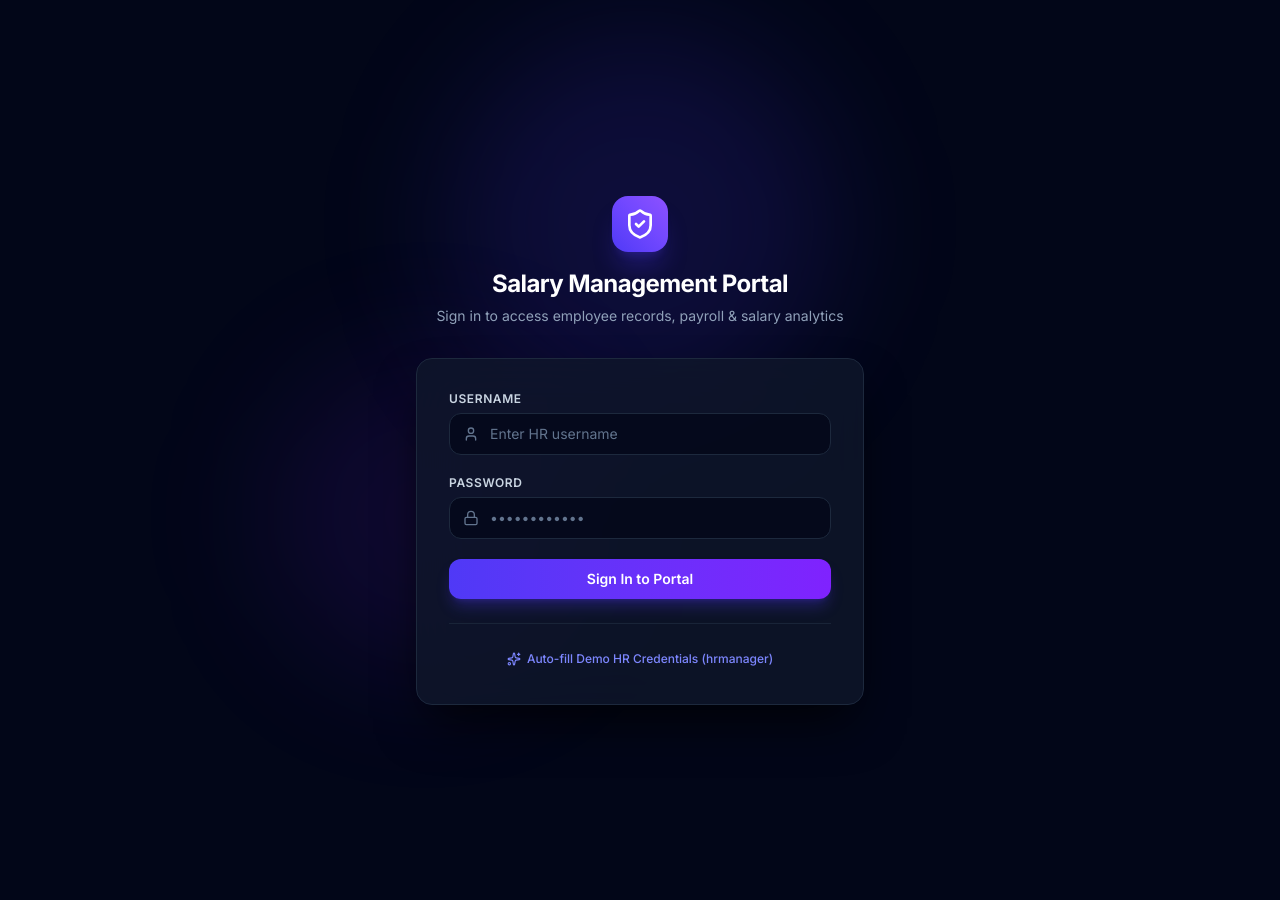
LoginPage › shows unauthorized modal when non-HR role user attempts to log in
Type "regular_employee" into the field with placeholder "Enter HR username".
click(640, 434); type("regular_employee")  # box [449,412,831,454]
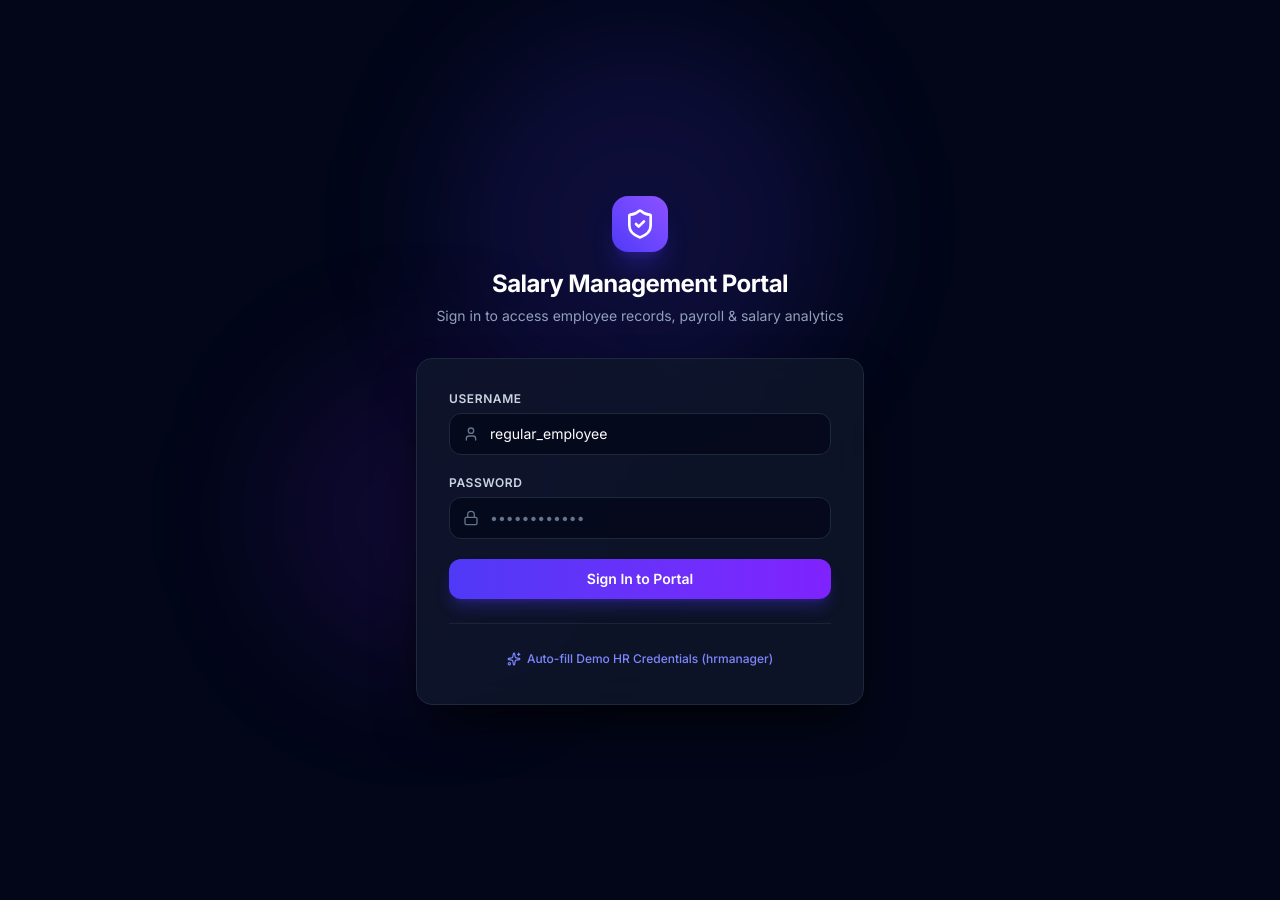
Type "mypassword" into the password field with placeholder "••••••••••••".
click(640, 518); type("mypassword")  # box [449,496,831,538]
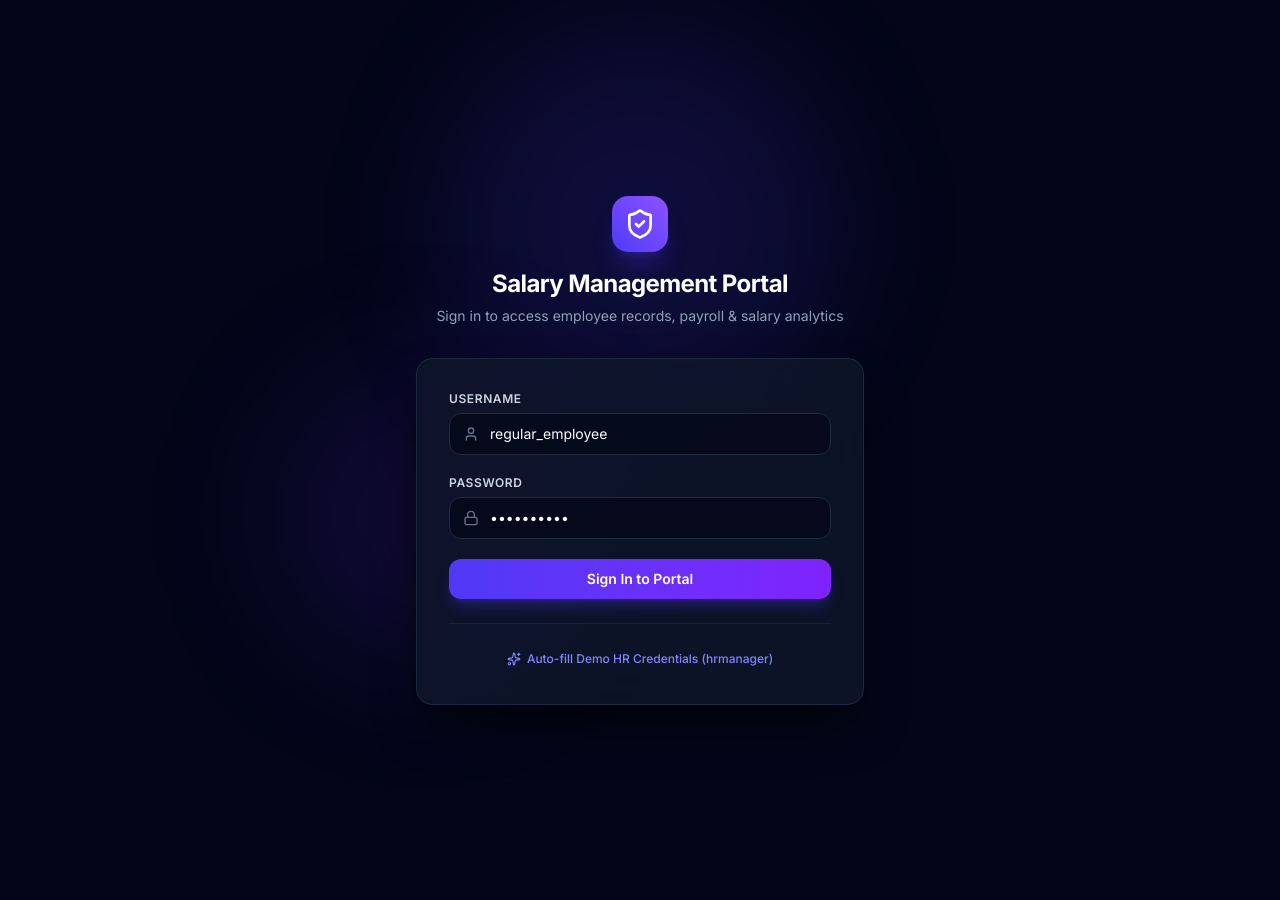
Click the button "Sign In to Portal".
click(640, 578)  # box [449,558,831,598]
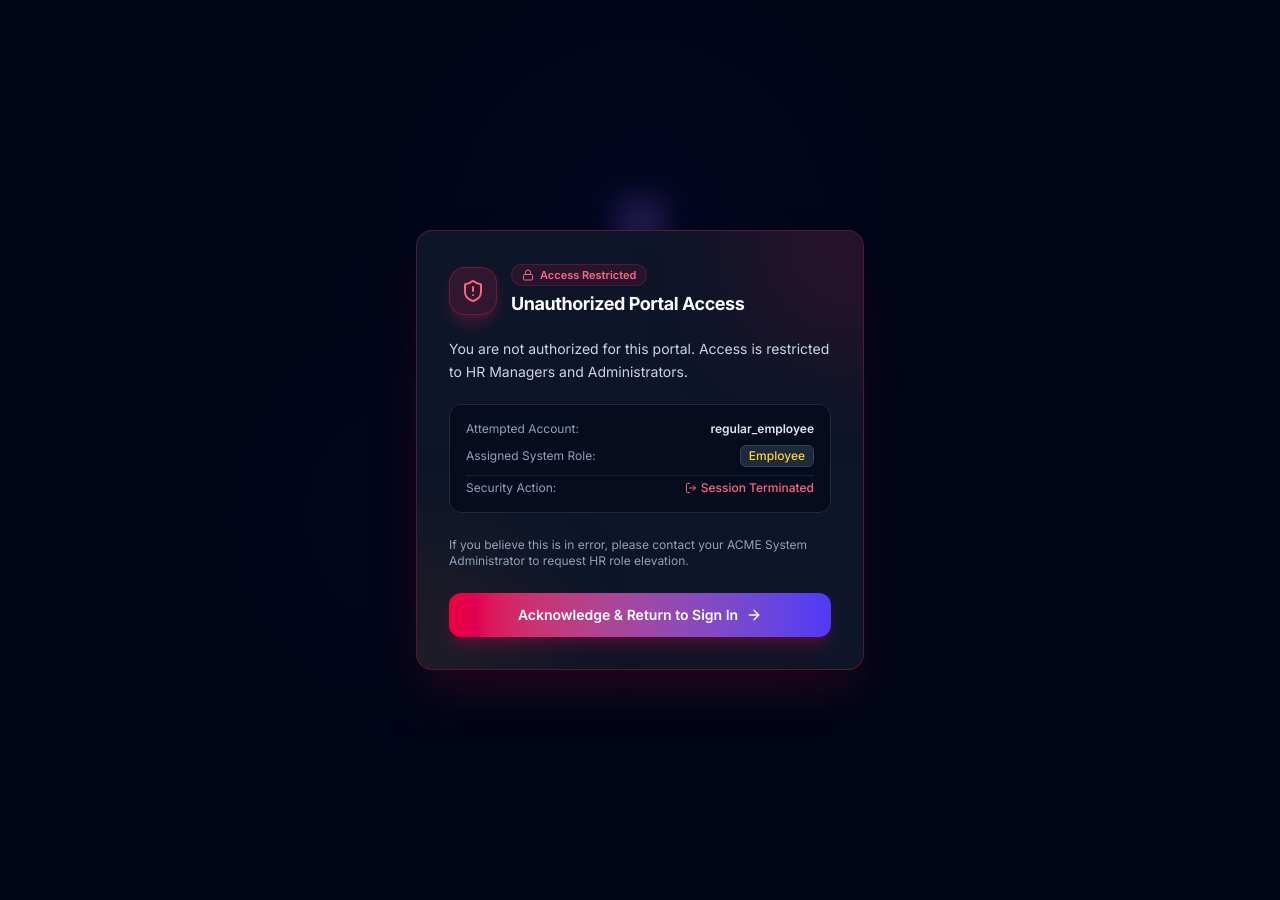
Result: the heading "Unauthorized Portal Access" is shown at [511,290,744,318]
Result: the text "regular_employee" is shown at [710,421,814,437]
Result: the text "Session Terminated" is shown at [685,480,814,496]
Note: Dismiss modal
Click the button "Acknowledge & Return to Sign In".
click(640, 615)  # box [449,593,831,637]
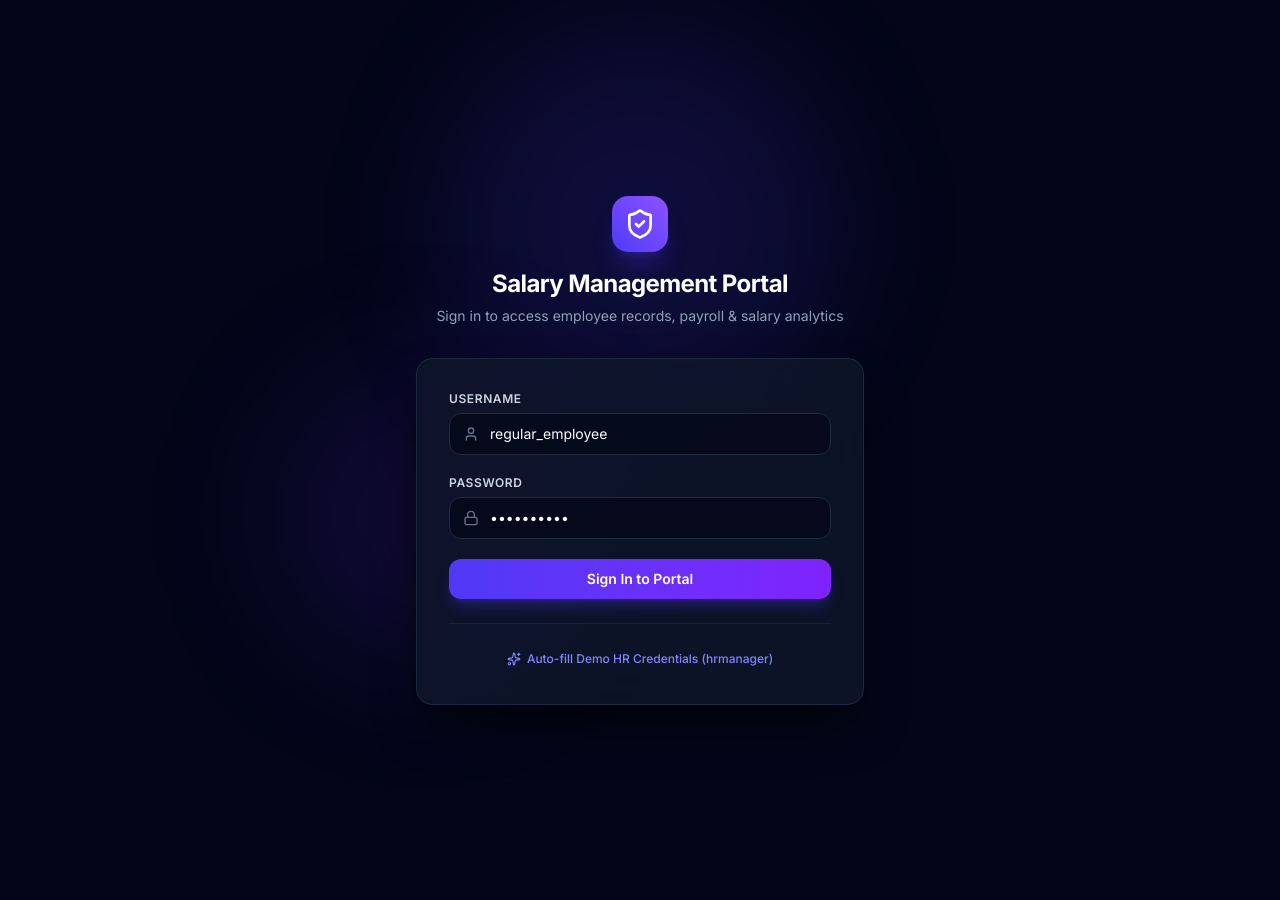
Result: the heading "Unauthorized Portal Access" is gone
